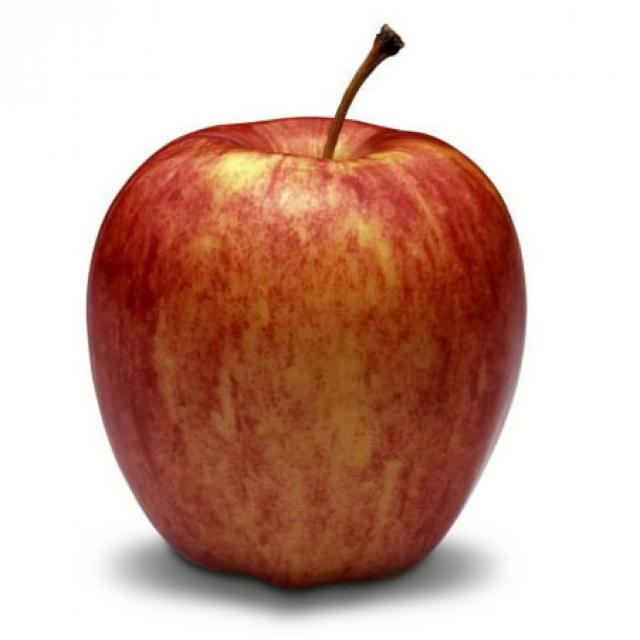Apple: (87, 19, 518, 591)
